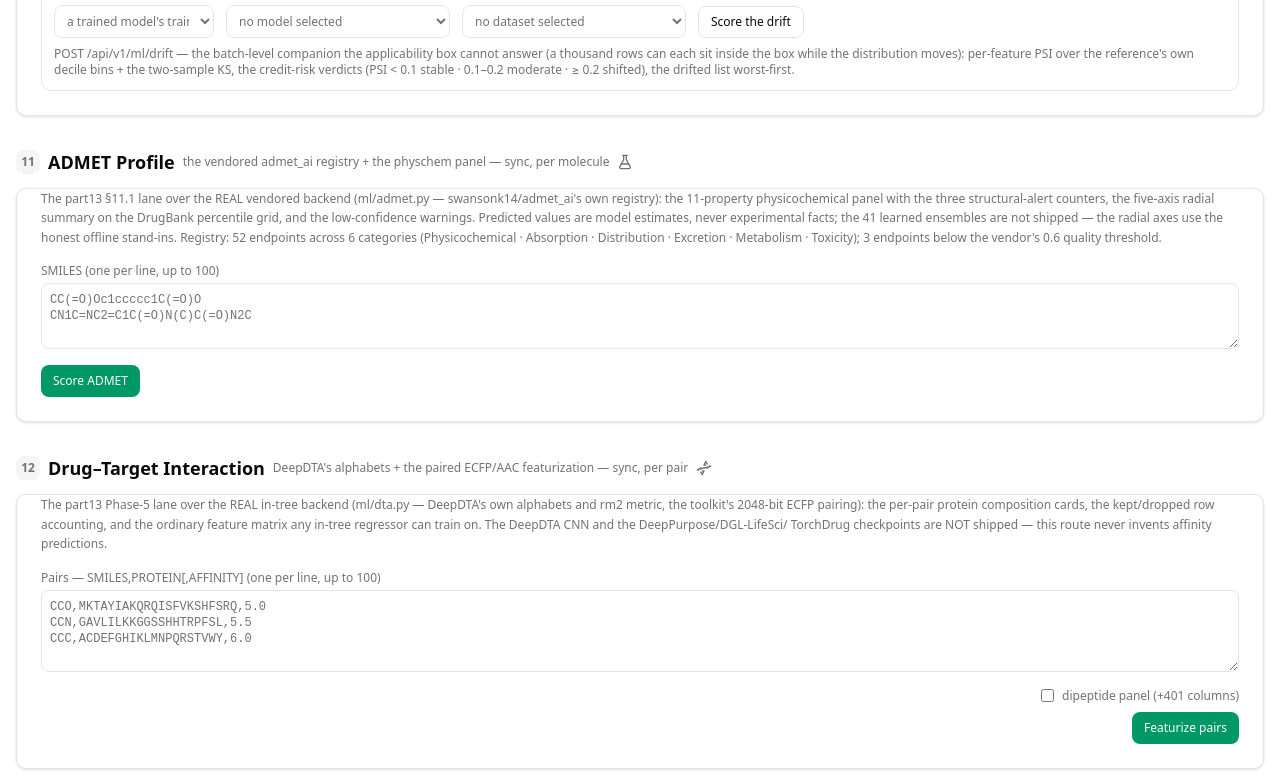
Test: the ADMET lane of the Machine Learning workspace › reports an invalid SMILES row per-row, never silently
(page scrolled)
Click the button "Score ADMET".
click(90, 381)  # box [41, 365, 140, 397]
(page scrolled)
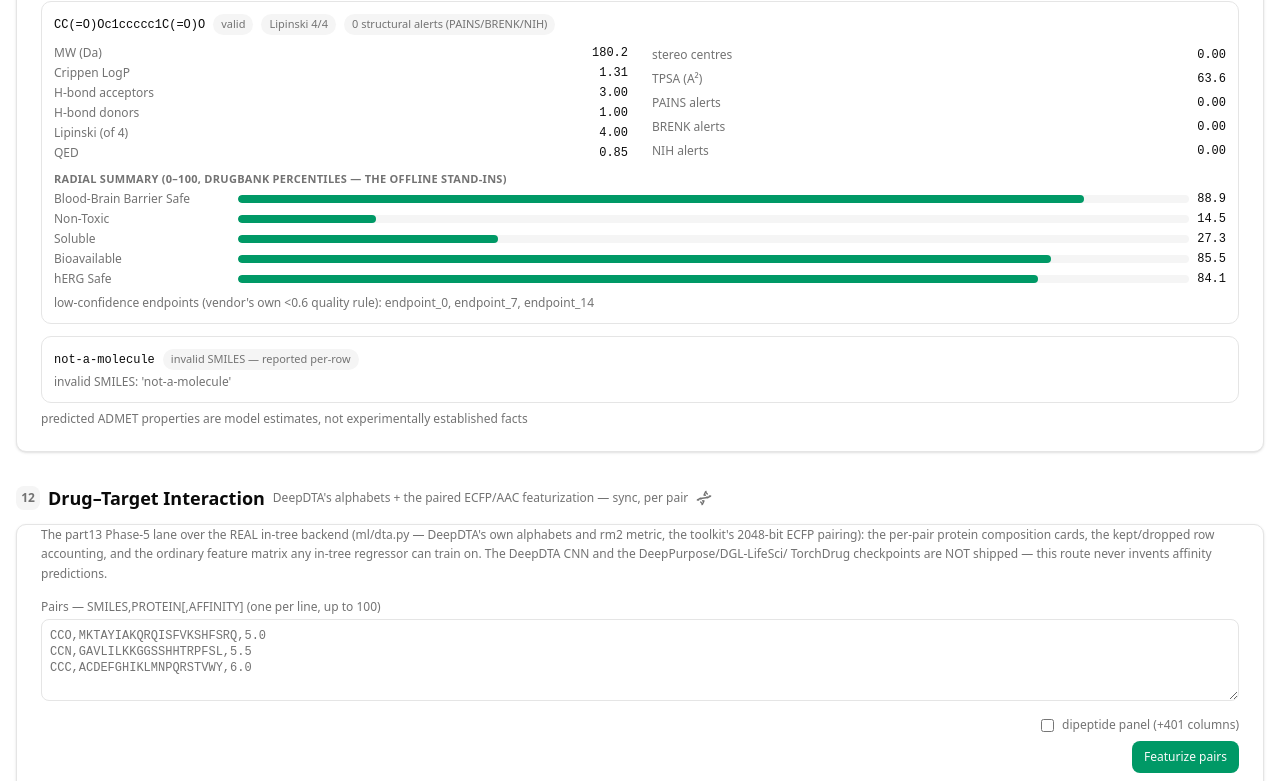
Check: the text "invalid SMILES — reported per-row" is shown, box [163, 349, 359, 370]
Check: the text "invalid SMILES: 'not-a-molecule'" is shown, box [54, 373, 231, 390]
